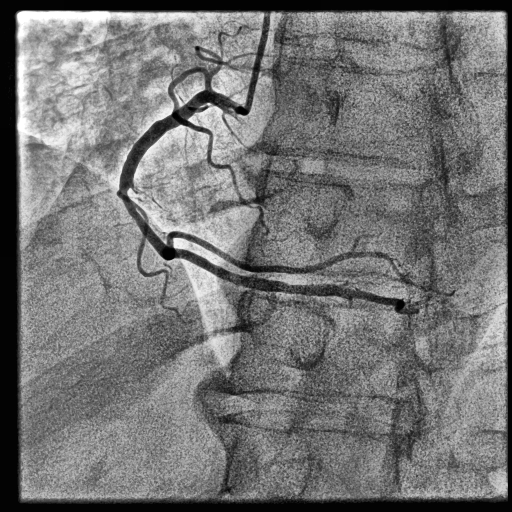pborca: (166, 230, 455, 296)
pda: (175, 248, 404, 311)
rca: (118, 89, 231, 260)
